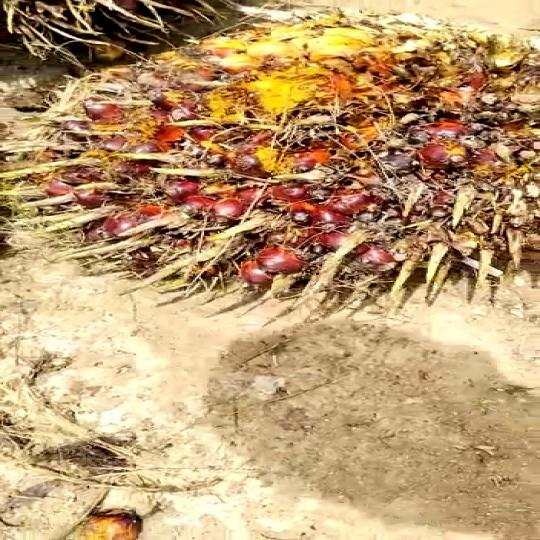masak: (28, 0, 540, 347)
